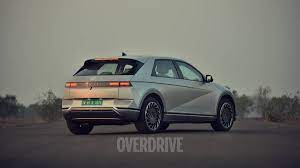Honda Ioniq: (57, 47, 244, 134)
